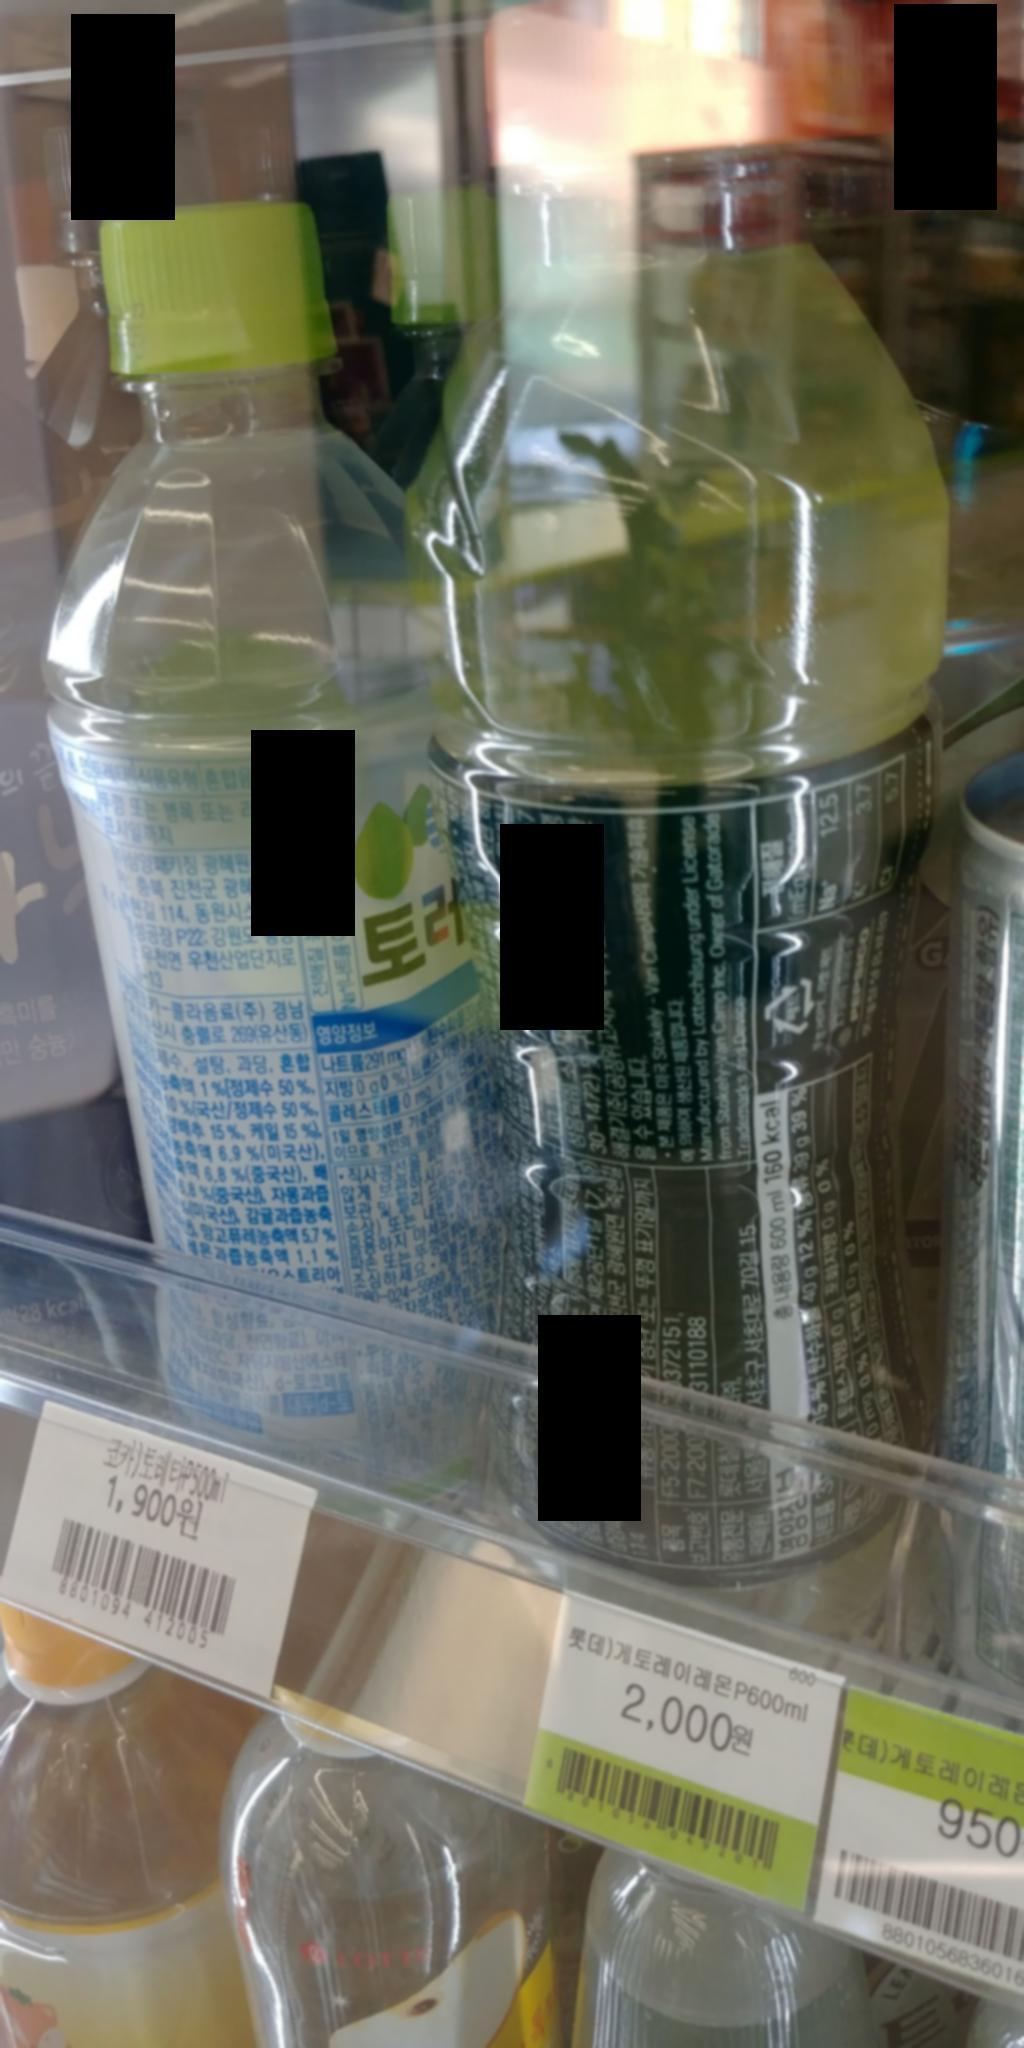gatorade_lemon: (431, 0, 950, 1563)
toreta: (24, 184, 546, 1472)
